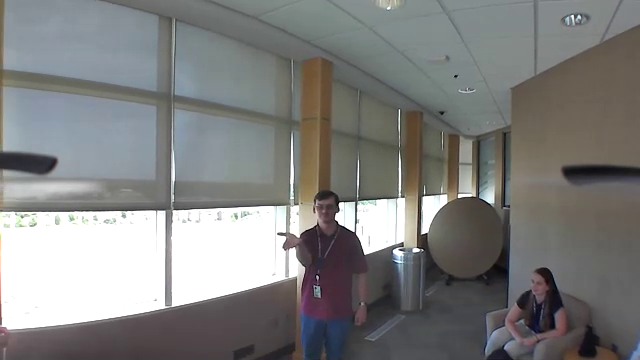land: (272, 228, 311, 256)
